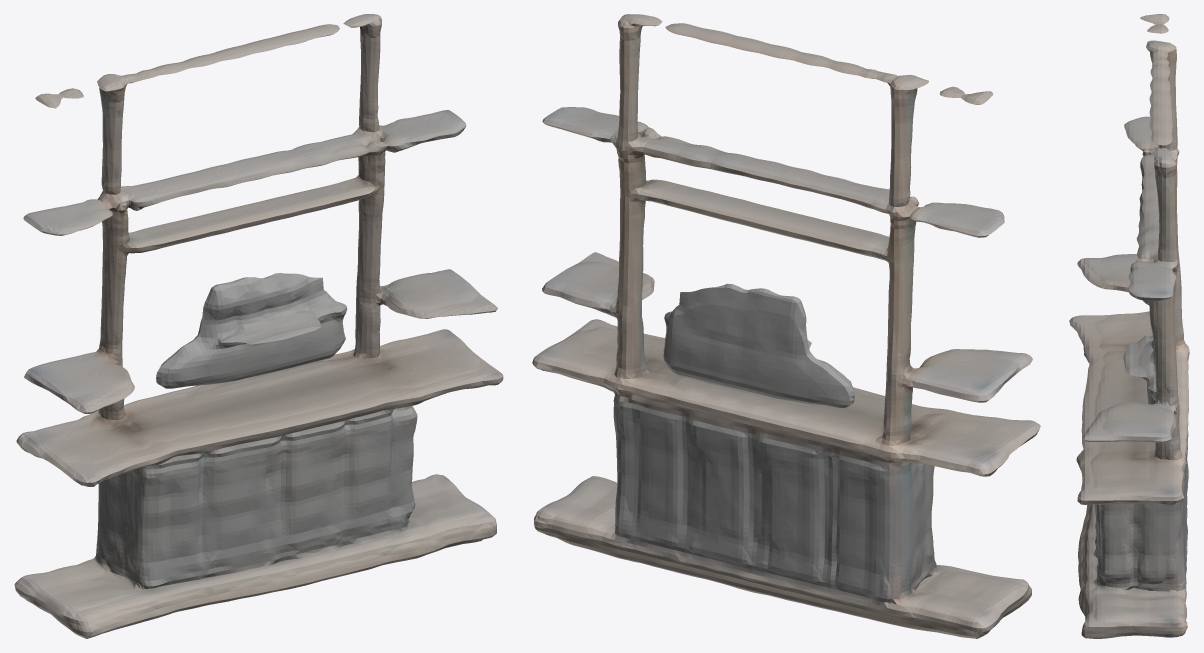
File: shelving-unit.glb
3 views of the same model, side by side, from view 1: azimuth 30°, elevation 25°; view 2: azimuth 150°, elevation 25°; view 3: azimuth 270°, elevation 25° (orthographic). The views are drawn at different scales.
Parts seen in each view (by area): view 1: world; view 2: world; view 3: world.
Part boxes in pixels (x1,y1,x2,y2): world: [14, 14, 503, 638]; world: [532, 14, 1040, 638]; world: [1069, 14, 1189, 638].
Size of the model in its own units: 0.7502 by 0.8519 by 0.2028.
